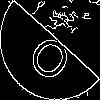O: (25, 25, 81, 86)
